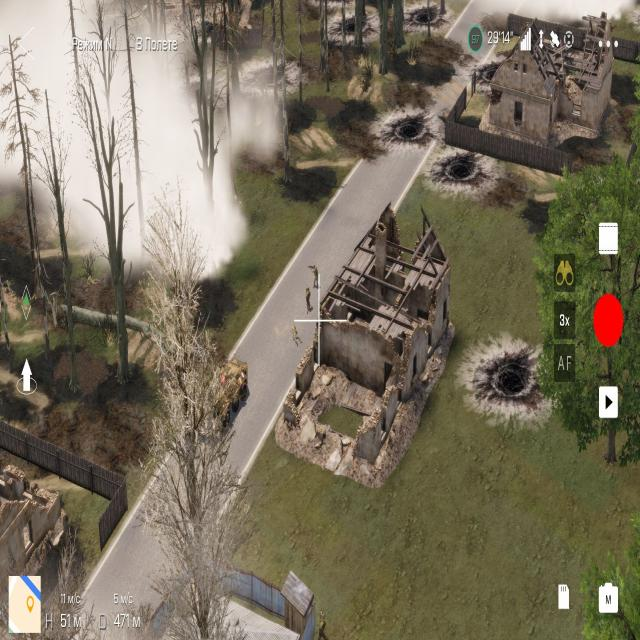fortification: (330, 204, 448, 471), (442, 0, 625, 169), (151, 548, 309, 640), (0, 422, 74, 612)
infantry: (307, 259, 322, 291), (288, 320, 302, 350), (316, 605, 328, 640), (385, 35, 399, 62), (303, 284, 313, 314)
vehicle: (182, 345, 249, 435)
